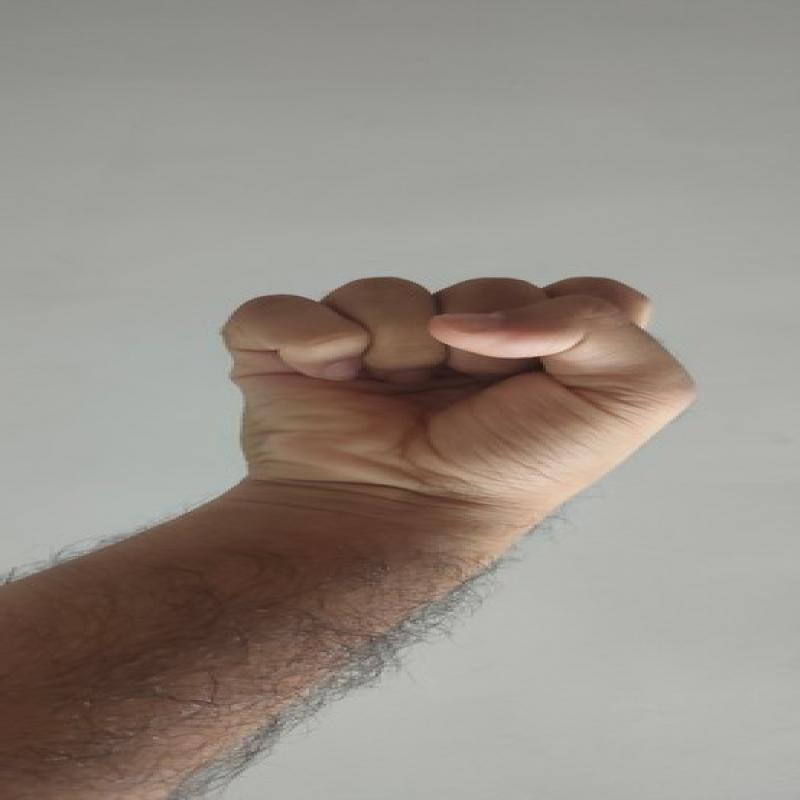Mushti: (197, 257, 708, 513)
